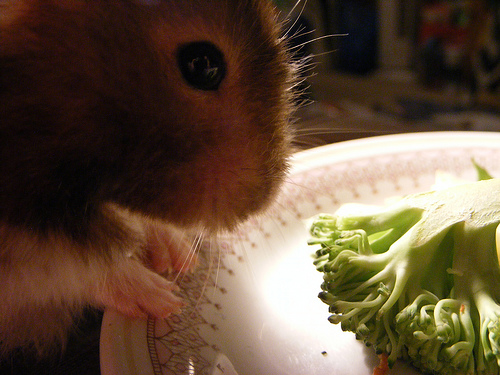broccoli: (306, 154, 499, 374)
